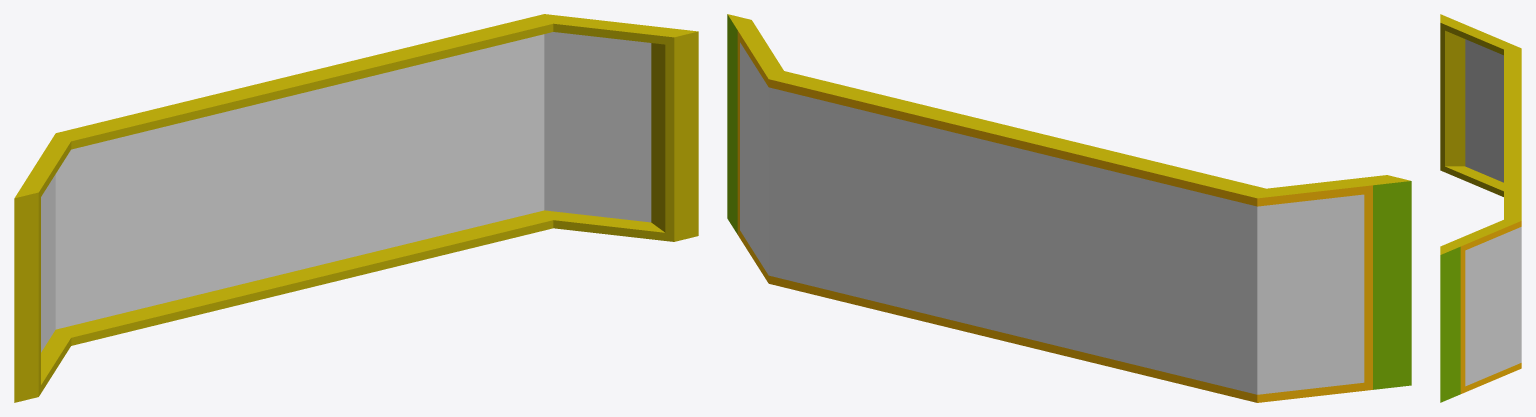
The model's file is window_panoramic_7x1x2.dae.
The picture shows the model from 3 angles, left to right: view 1: azimuth 30°, elevation 25°; view 2: azimuth 150°, elevation 25°; view 3: azimuth 270°, elevation 25°; orthographic projection. The views are drawn at different scales.
Parts seen in each view (by area): view 1: Cube; view 2: Cube; view 3: Cube.
Part boxes in pixels (box(x1,y1,x2,y2)): Cube: box(14, 14, 698, 402); Cube: box(727, 14, 1411, 402); Cube: box(1440, 14, 1521, 402).
Bounding box in the file's own units: 1.75 × 0.25 × 0.5.
